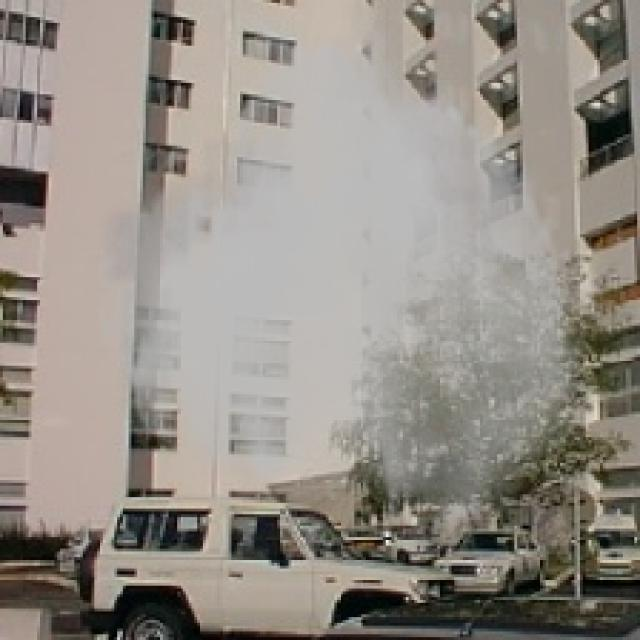smoke: (92, 6, 617, 534)
